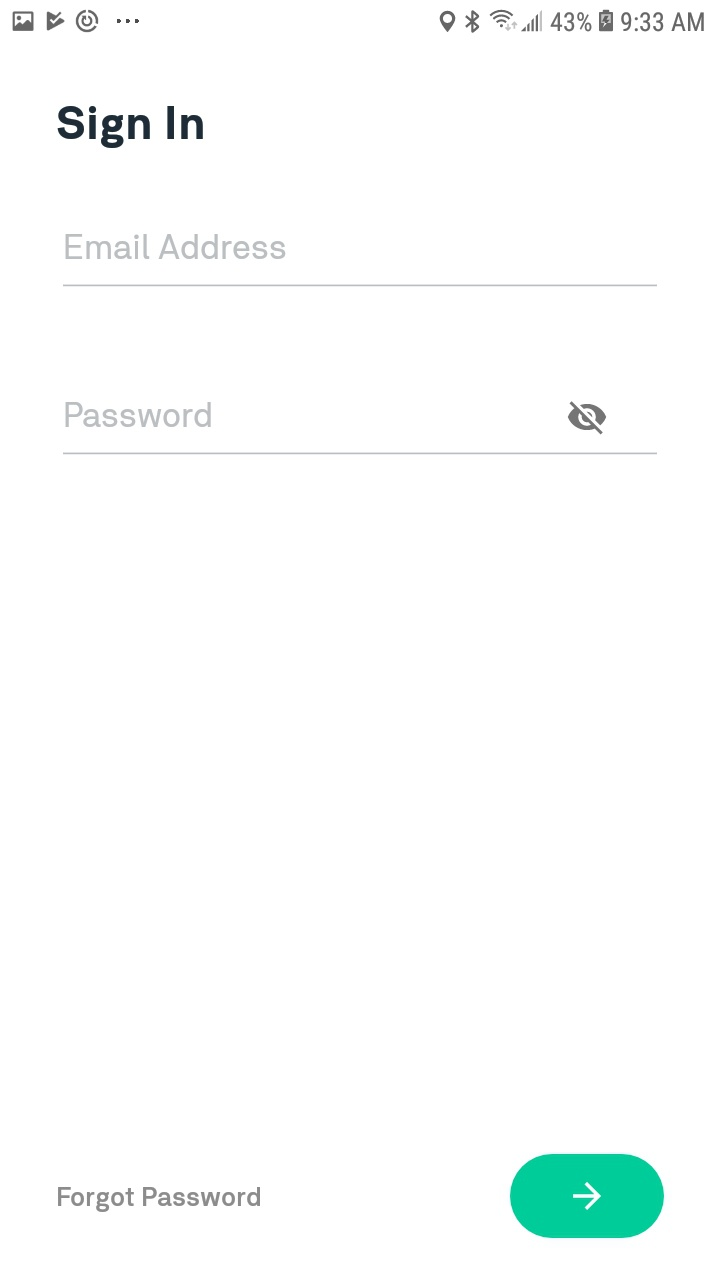EditText: (63, 401, 658, 455), (63, 234, 658, 287)
Icon: (568, 401, 607, 436)
Text: (58, 107, 204, 150), (66, 234, 286, 261), (58, 1186, 261, 1212), (65, 403, 212, 429)
TextButton: (509, 1154, 664, 1239)
UpperTaskBar: (1, 1, 720, 35)
